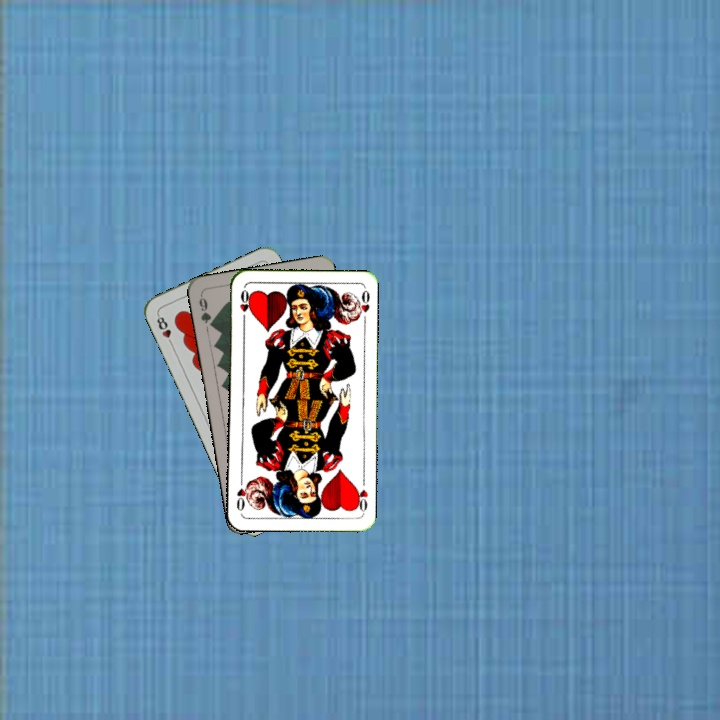G9: (195, 291, 217, 330)
H8: (152, 310, 176, 349)
HO: (351, 475, 370, 515), (235, 286, 252, 325)
